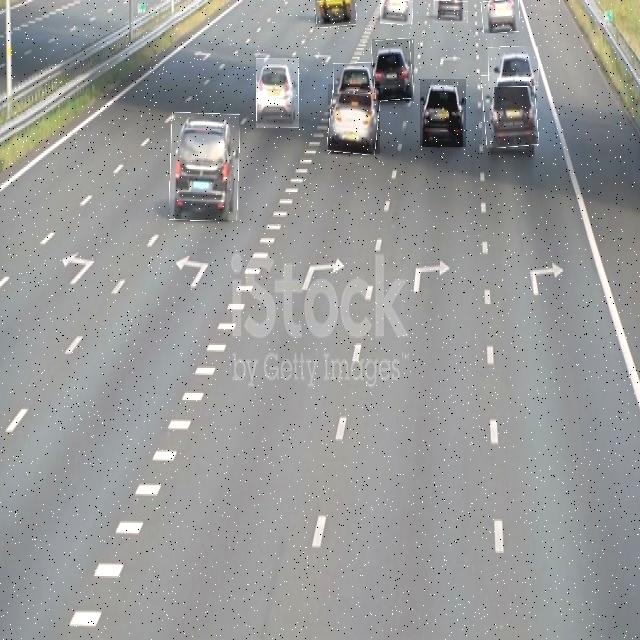Car: (170, 113, 239, 220), (482, 72, 538, 147), (328, 84, 380, 154), (420, 79, 466, 147), (256, 58, 299, 128), (372, 39, 414, 101), (488, 47, 539, 87), (334, 63, 376, 94), (481, 0, 519, 32), (433, 0, 468, 23), (380, 0, 413, 24)
Truck: (315, 0, 356, 27)
